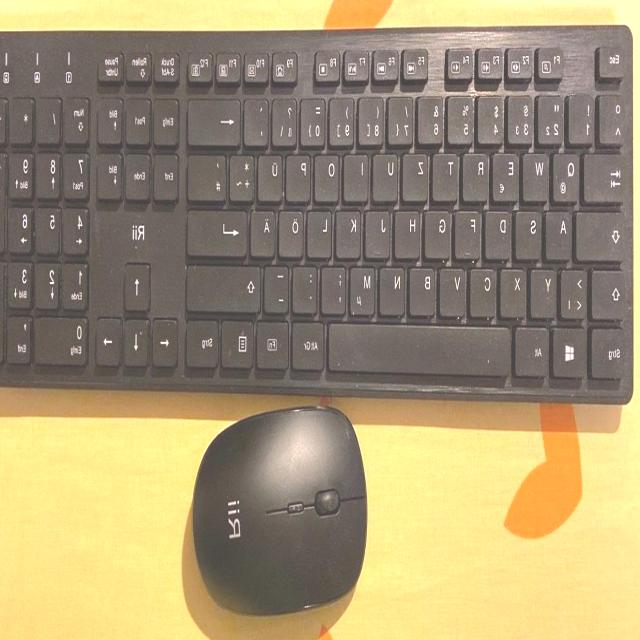0: (302, 91, 328, 144)
1: (569, 89, 597, 143)
2: (539, 89, 567, 143)
3: (509, 89, 536, 143)
4: (480, 90, 506, 142)
5: (449, 90, 477, 143)
6: (418, 91, 446, 143)
7: (390, 91, 416, 144)
8: (361, 91, 387, 144)
9: (331, 91, 357, 145)
a: (547, 205, 575, 258)
accent: (246, 92, 272, 144)
ae: (252, 205, 278, 257)
alt-left: (516, 321, 552, 375)
altgr-right: (293, 317, 327, 369)
b: (411, 262, 439, 314)
c: (471, 263, 499, 315)
caret: (601, 91, 628, 143)
comma: (323, 261, 349, 313)
d: (486, 204, 514, 258)
del: (189, 92, 243, 144)
e: (494, 148, 522, 201)
enter: (189, 205, 250, 255)
f: (456, 205, 483, 258)
g: (426, 204, 454, 257)
h: (396, 205, 423, 257)
hash: (189, 150, 229, 200)
i: (345, 149, 371, 199)
j: (367, 205, 393, 257)
k: (338, 205, 364, 257)
keyboard: (0, 21, 635, 407)
l: (309, 205, 335, 257)
less: (562, 263, 590, 317)
m: (352, 260, 379, 314)
minus: (266, 260, 292, 312)
n: (381, 262, 408, 314)
o: (316, 149, 342, 201)
oe: (280, 205, 306, 257)
p: (287, 149, 313, 201)
plus: (231, 149, 257, 199)
point: (294, 260, 320, 312)
q: (554, 147, 582, 201)
r: (464, 148, 492, 201)
s: (517, 205, 545, 258)
shift-left: (593, 264, 627, 317)
shift-lock: (577, 204, 627, 258)
shift-right: (189, 259, 264, 309)
space: (329, 319, 515, 376)
ss: (274, 92, 300, 145)
strg-left: (593, 322, 629, 377)
strg-right: (187, 315, 221, 367)
t: (434, 148, 461, 200)
tab: (586, 147, 626, 201)
u: (375, 148, 401, 201)
ue: (259, 149, 285, 201)
v: (441, 263, 469, 316)
w: (525, 148, 552, 201)
x: (501, 264, 528, 316)
y: (532, 264, 560, 316)
z: (404, 148, 430, 200)
